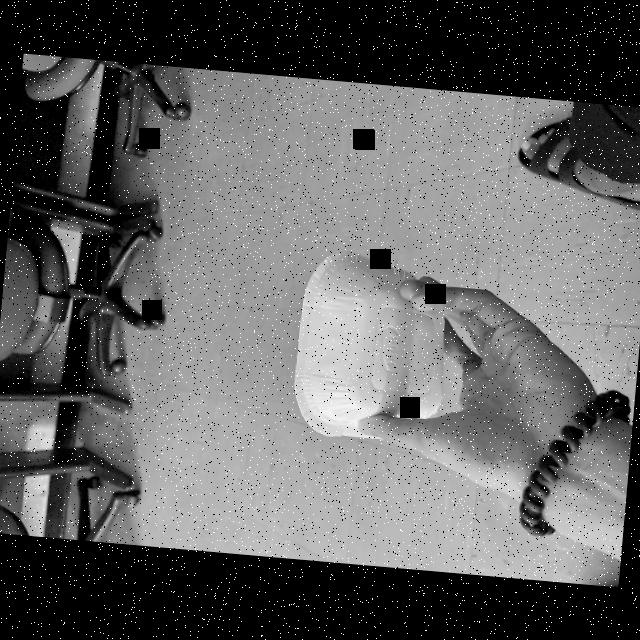cardboard_bowl: (280, 242, 479, 457)
